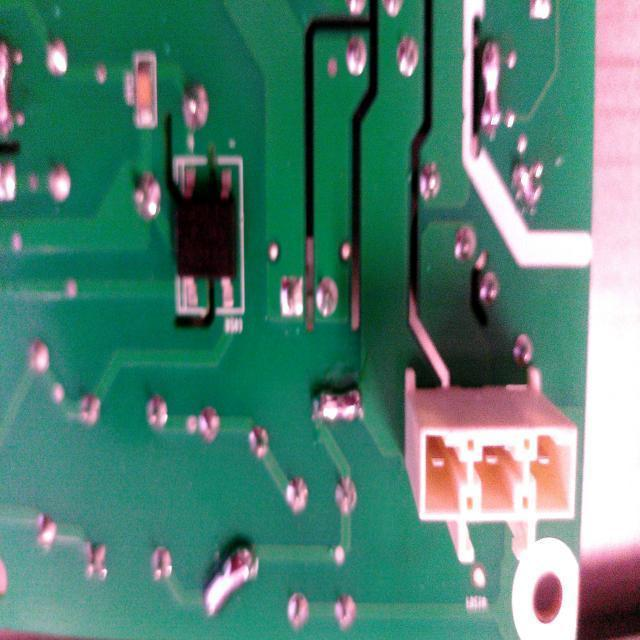Soldering shorted: (196, 515, 264, 623), (301, 378, 369, 438), (473, 34, 506, 146), (506, 151, 544, 222)
